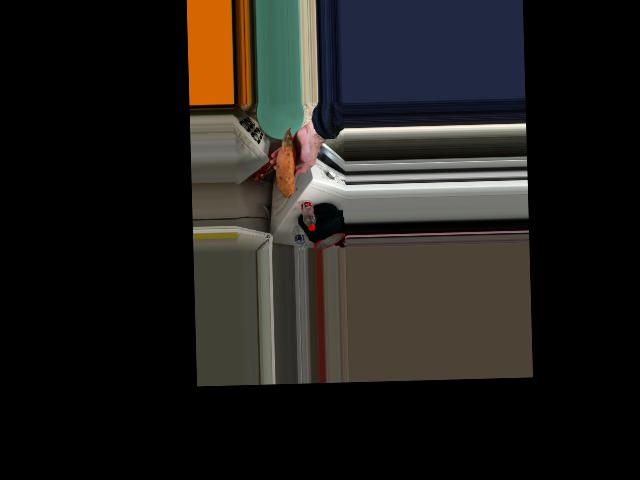sweet_potato: (276, 142, 301, 203)
